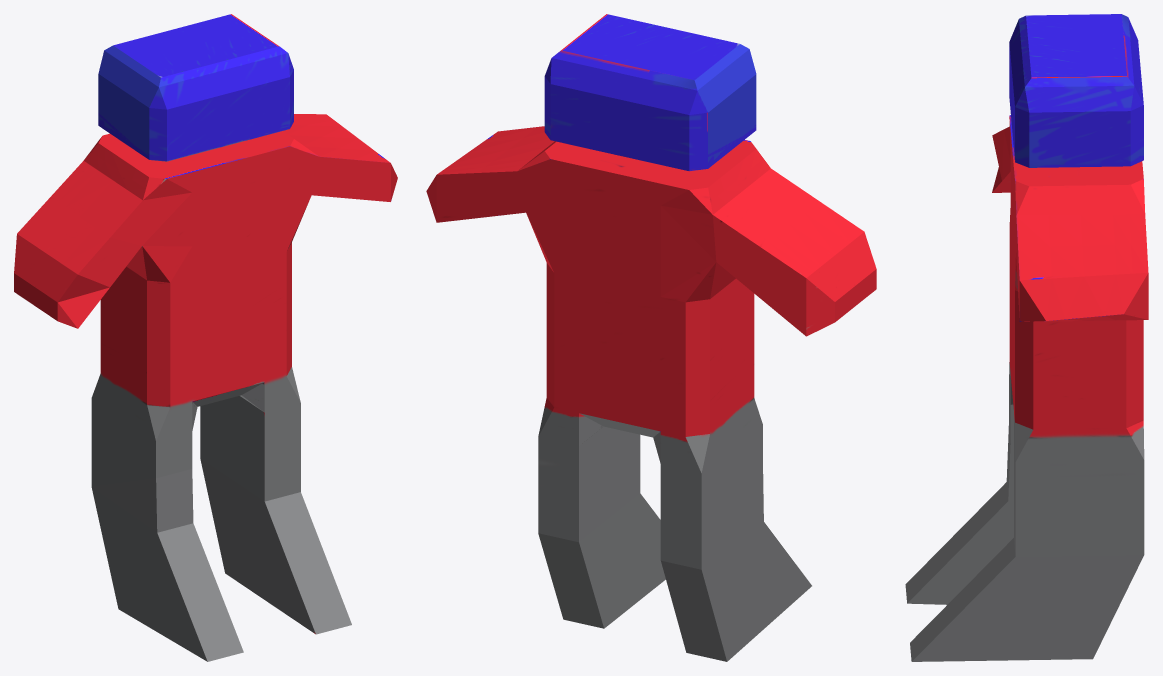
The model's file is Player2.fbx.
3 renders of one model, left to right at view 1: azimuth 30°, elevation 25°; view 2: azimuth 150°, elevation 25°; view 3: azimuth 270°, elevation 25°, orthographic. The views are drawn at different scales.
Parts seen in each view (by area): view 1: Cube; view 2: Cube; view 3: Cube.
Boxes of the visible parts, x1,y1,x2,y2 form: Cube: [14, 14, 397, 661]; Cube: [426, 14, 876, 661]; Cube: [905, 14, 1148, 661].
Bounding box in the file's own units: 491 × 707 × 268.
